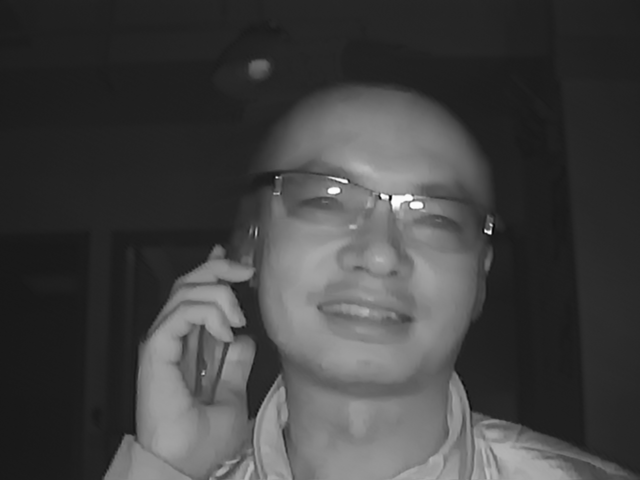hand: (133, 257, 257, 455)
